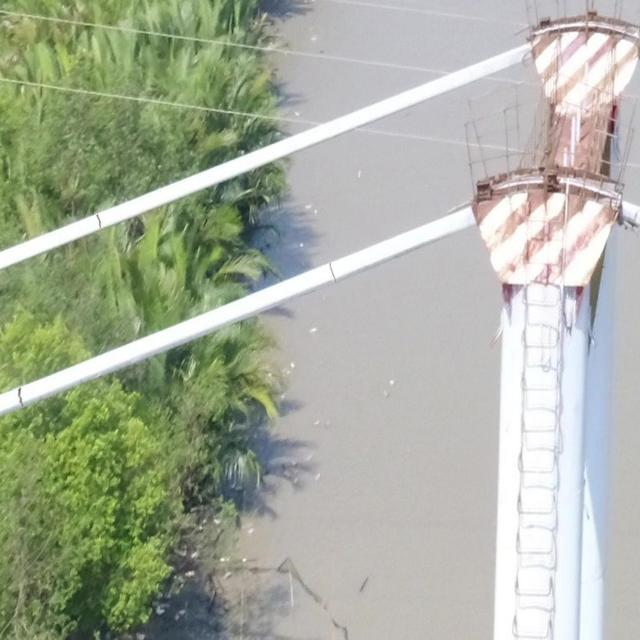crack: (328, 261, 336, 284), (17, 387, 24, 408), (96, 214, 102, 229)
